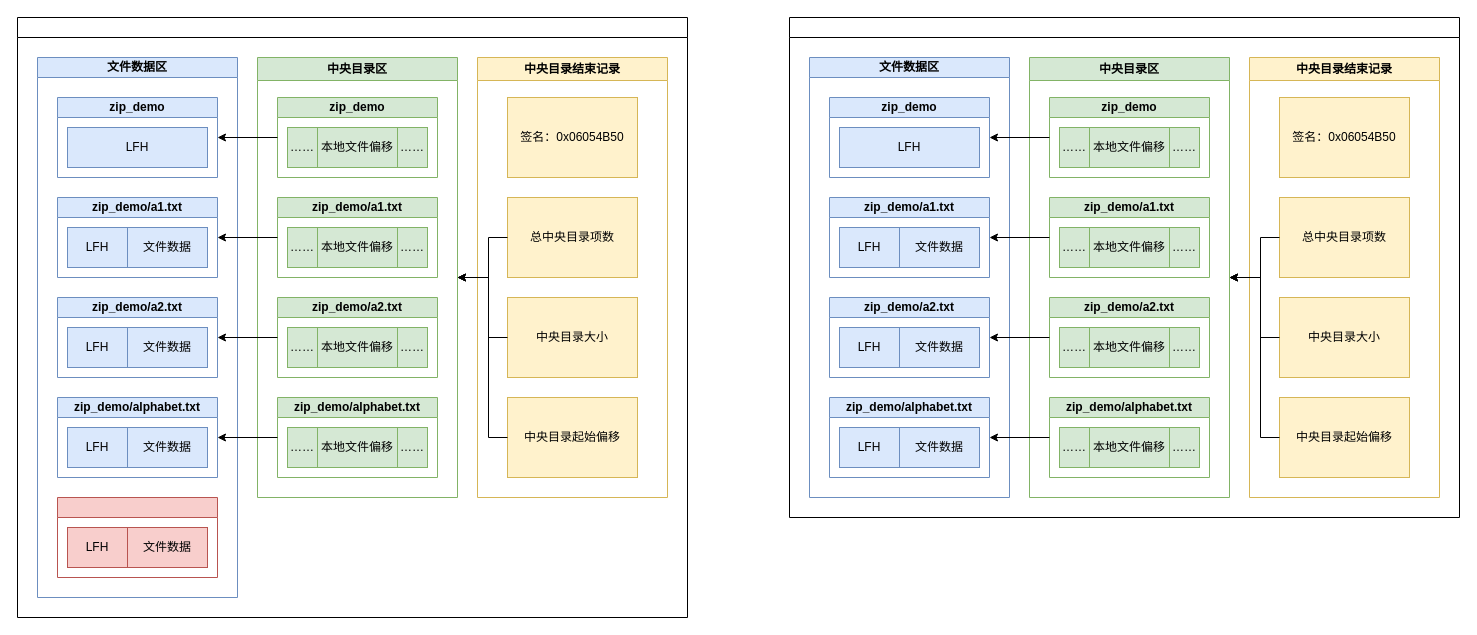
Image size: 1477x635. Some labels were removed from this diagram. The shapes that lost their labels are listed below. From the top down, each one's box as (x1, y1, x2, y2) in pixels, then its label:
(788, 16, 1460, 518): zip_demo.zip文件结构
(16, 16, 688, 618): zip_demo_hacked.zip文件结构
(56, 496, 218, 578): zip_demo/hacked.txt
